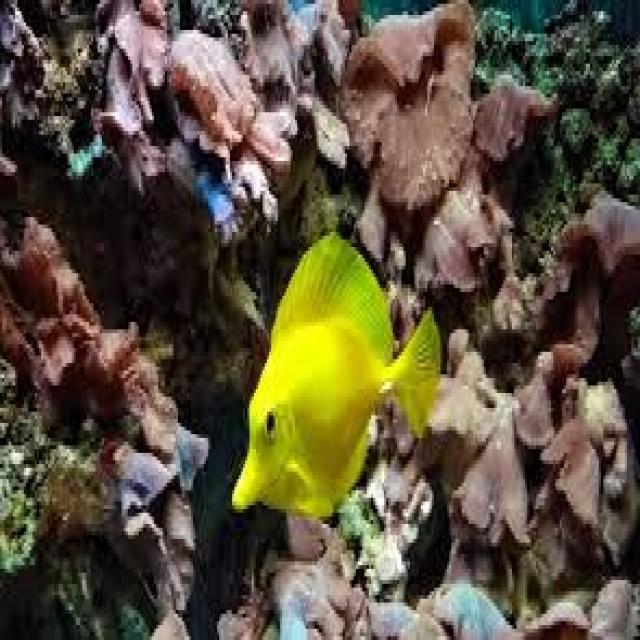TangFish: (228, 226, 442, 521)
